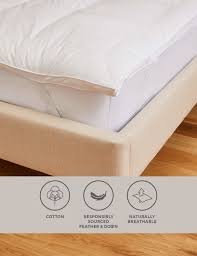bed-matress: (1, 1, 196, 134)
